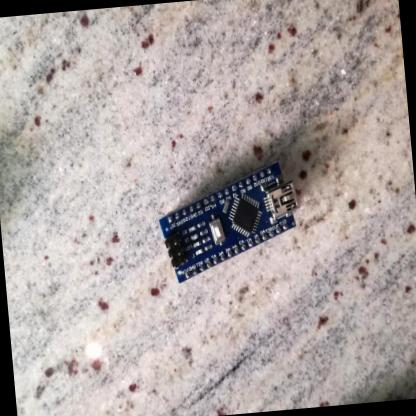Arduino_Nano: (153, 156, 313, 291)
